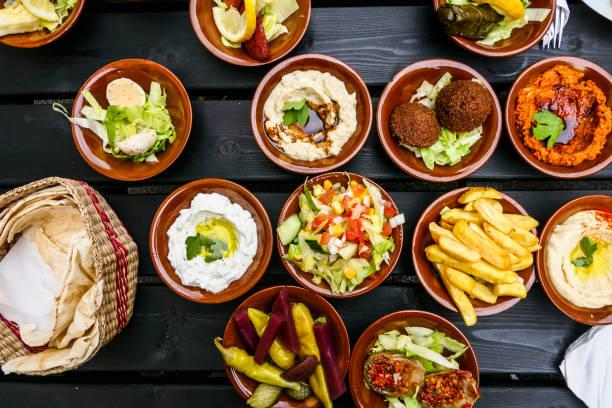Braised Crucian Carp: (1, 176, 137, 374), (411, 188, 536, 316), (276, 172, 401, 297), (376, 58, 501, 182), (221, 285, 348, 406), (150, 179, 271, 304), (71, 59, 189, 180), (250, 54, 370, 172), (504, 56, 609, 178), (348, 310, 479, 405), (535, 194, 610, 323)
